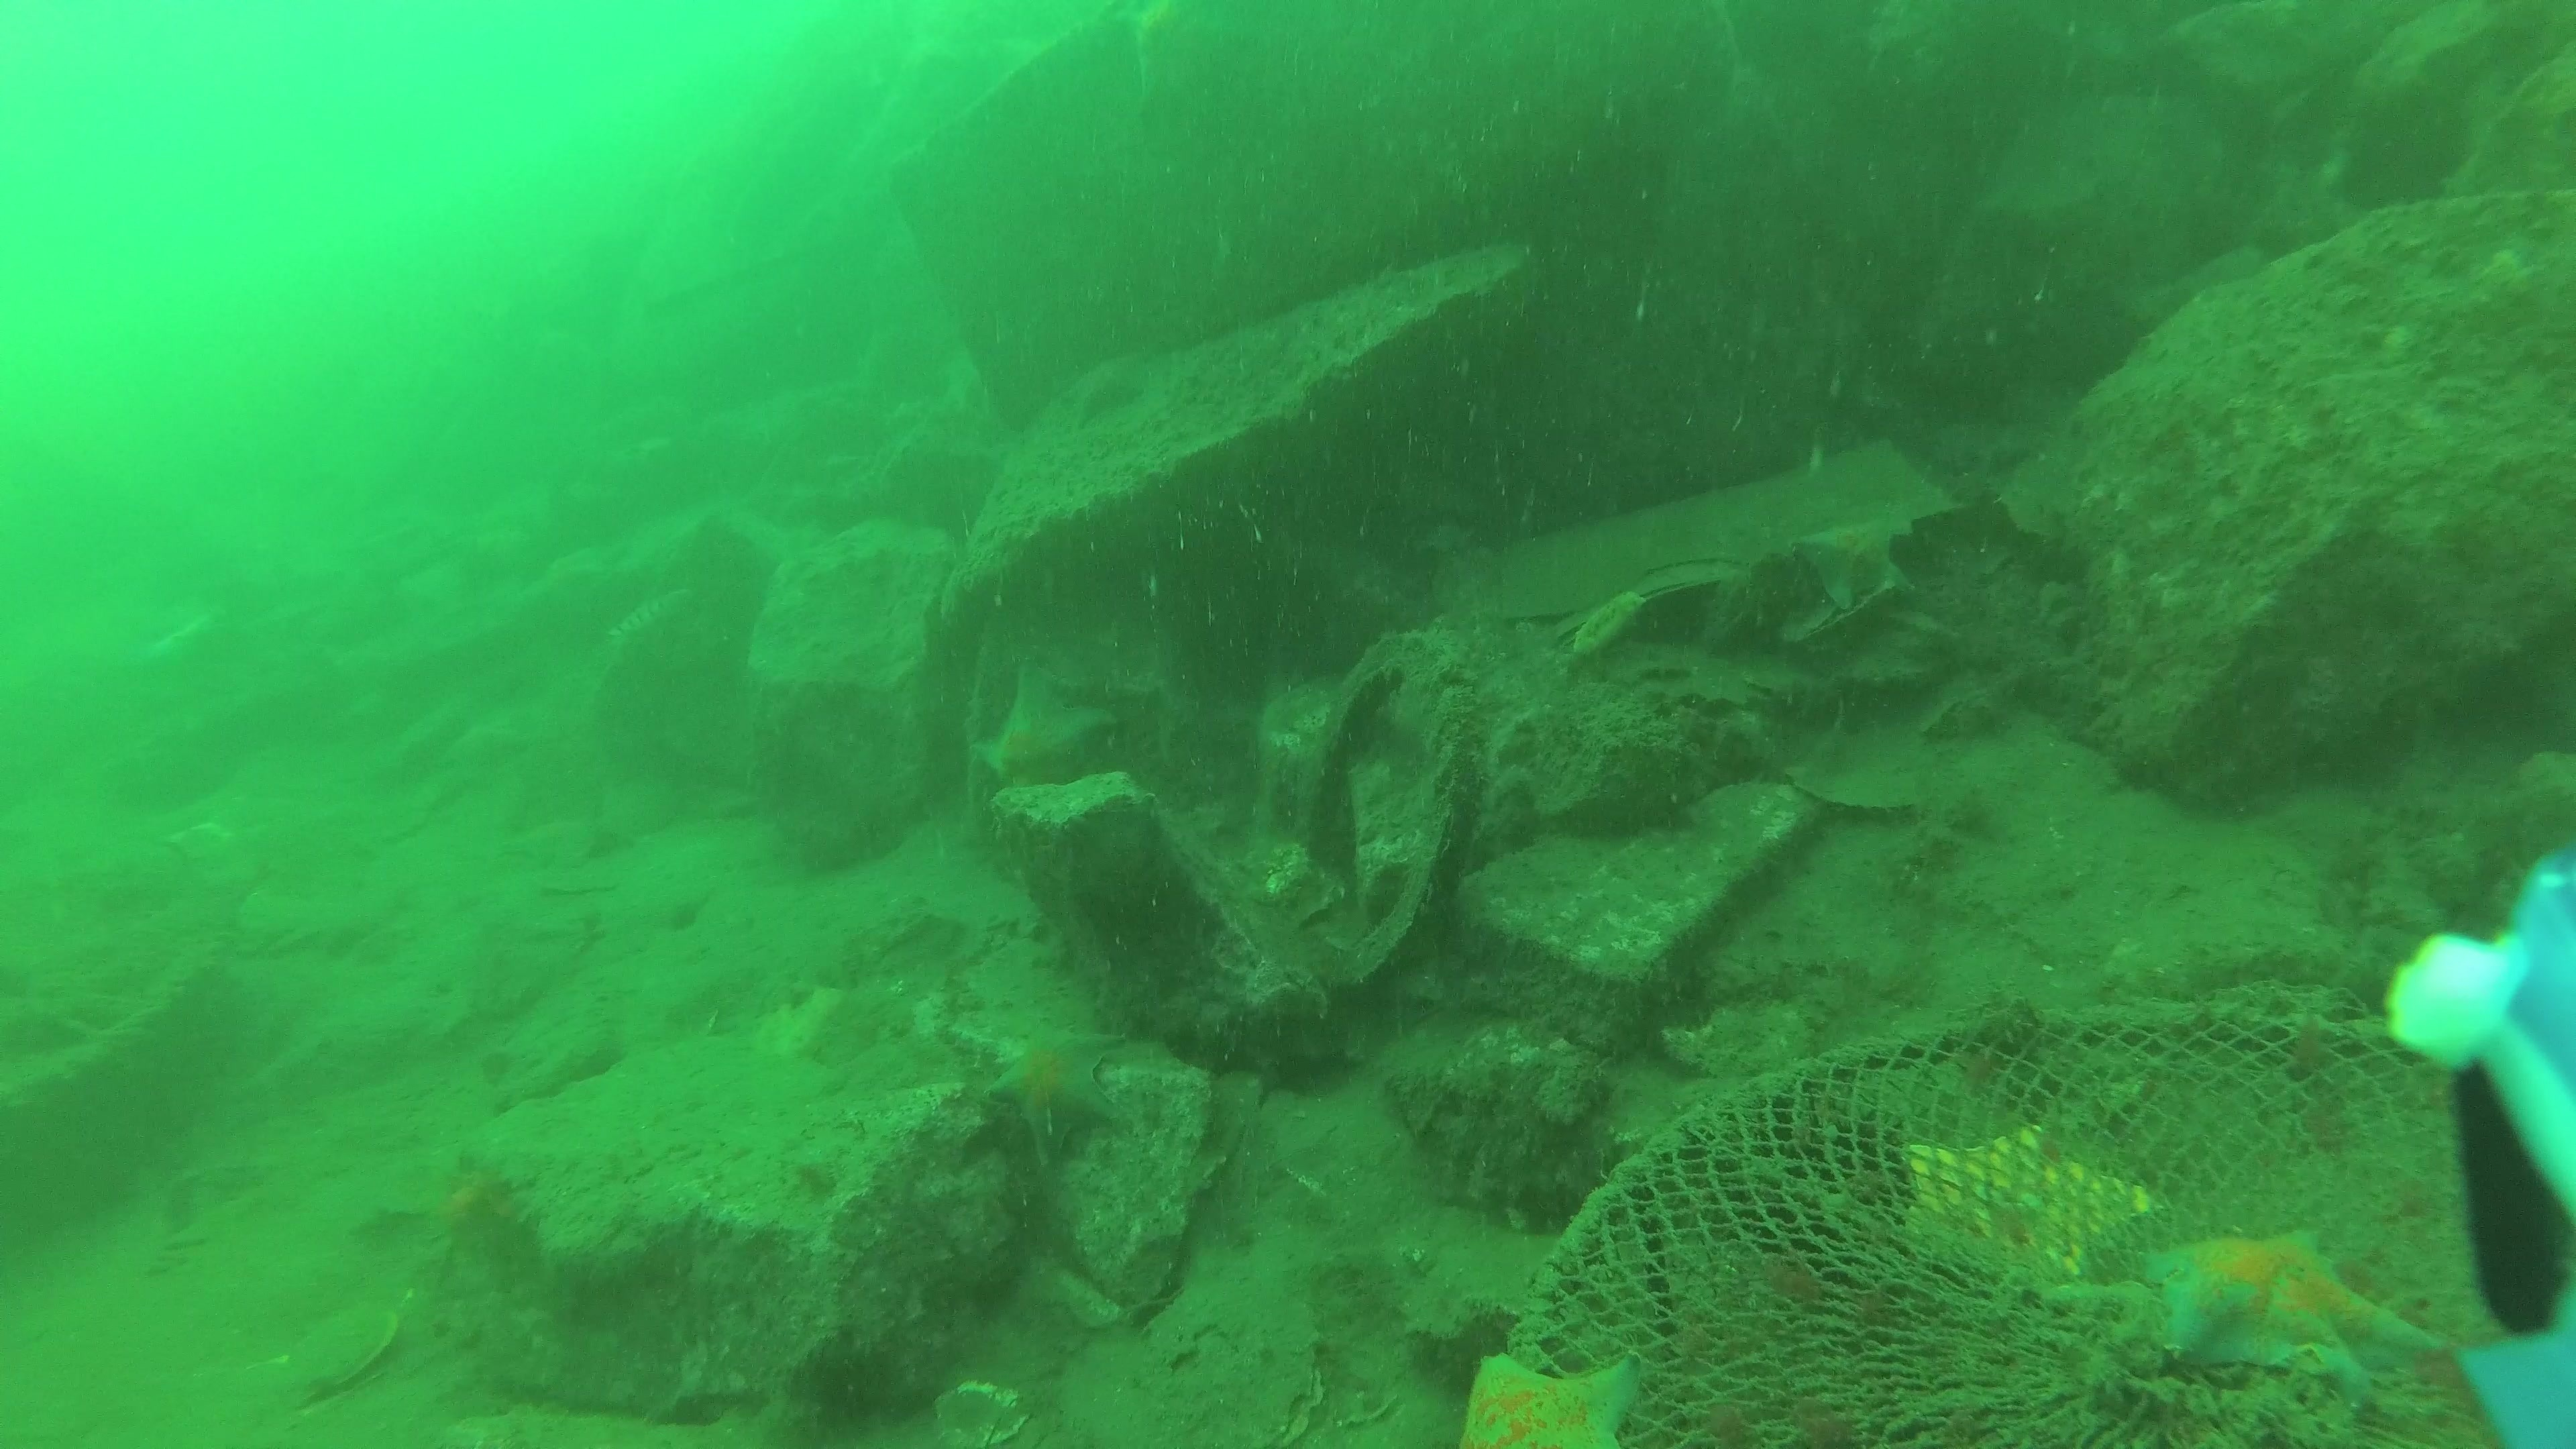scallop: (272, 1311, 400, 1399)
starfish: (2153, 1233, 2452, 1408), (1890, 1123, 2150, 1284), (973, 648, 1123, 796), (993, 1030, 1127, 1169), (1458, 1350, 1640, 1449), (1785, 506, 1927, 610), (1046, 336, 1141, 425)
